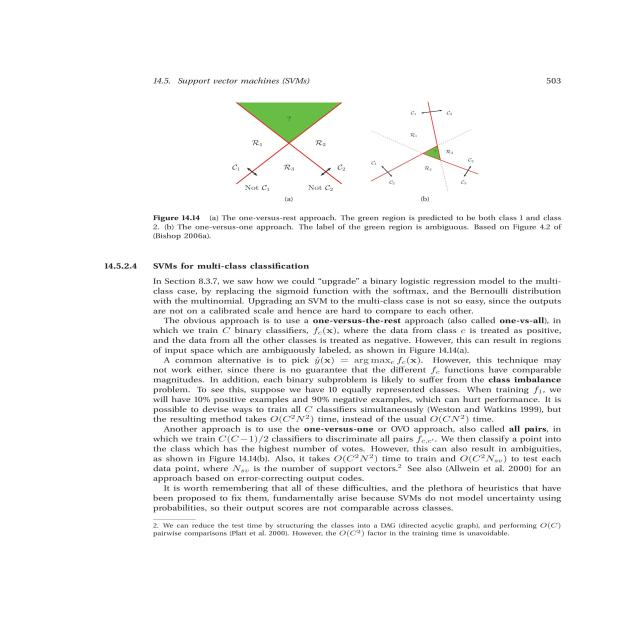diagram: (100, 90, 640, 242)
